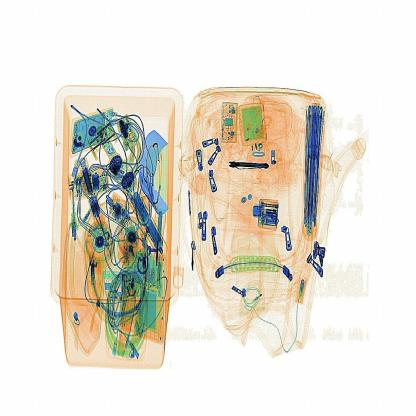knife: (223, 156, 270, 186)
